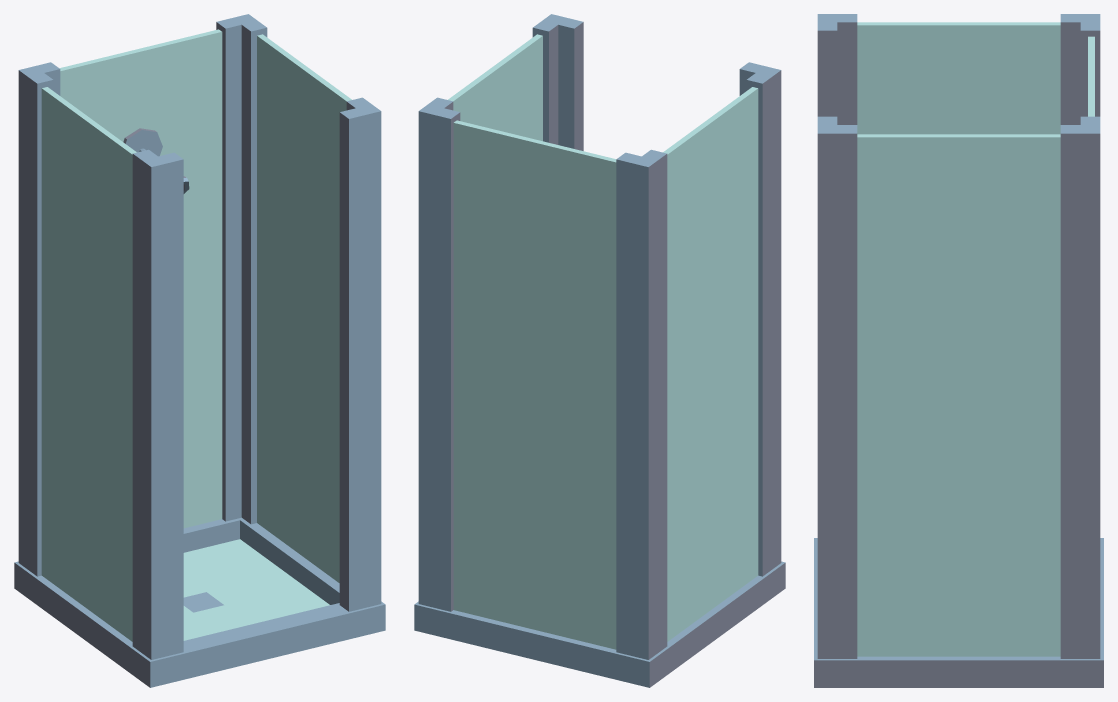
Rendered from Shower.fbx.
The picture shows the model from 3 angles, left to right: view 1: azimuth 30°, elevation 25°; view 2: azimuth 150°, elevation 25°; view 3: azimuth 270°, elevation 25°; orthographic projection. The views are drawn at different scales.
Parts seen in each view (by area): view 1: Shower; view 2: Shower; view 3: Shower.
Boxes of the visible parts, box(x1,y1,x2,y2) form: Shower: box(14, 14, 385, 687); Shower: box(414, 14, 785, 687); Shower: box(814, 14, 1103, 687).
Size of the model in its own units: 200 by 421 by 200.
